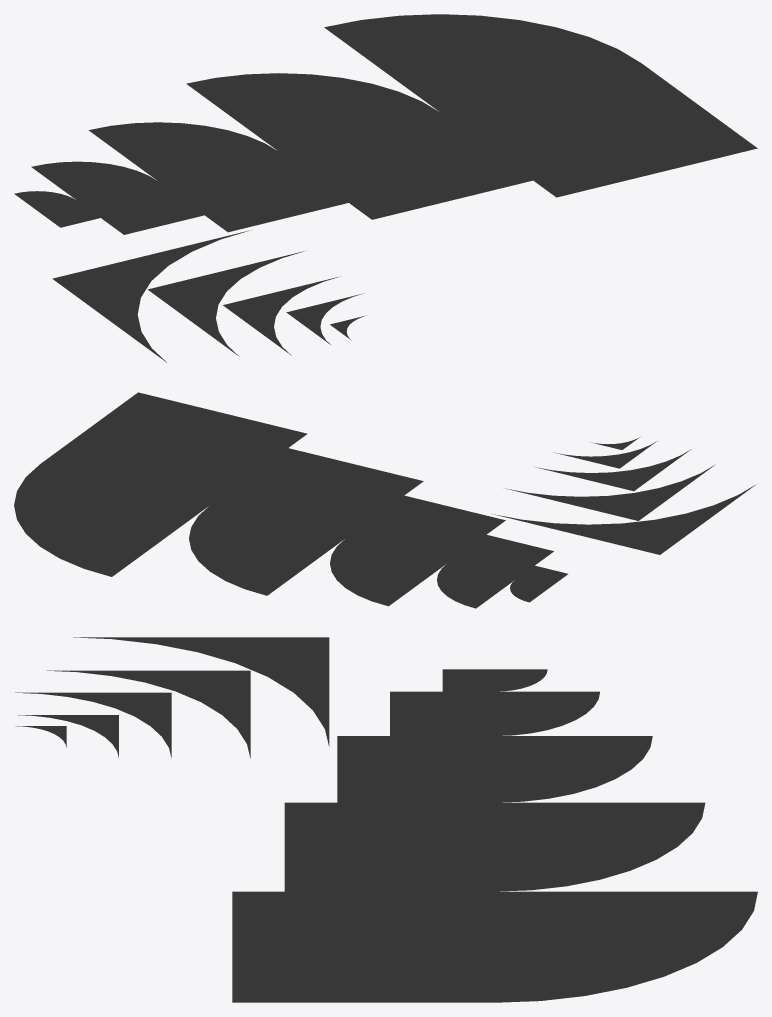
File: TilesLots.fbx
3 views of the same model, one above another, from view 1: azimuth 30°, elevation 25°; view 2: azimuth 150°, elevation 25°; view 3: azimuth 270°, elevation 25° (orthographic). The views are drawn at different scales.
Visible parts, largest first — view 1: lot_100x100, lot_corner_100x100, lot_80x80, lot_corner_80x80, lot_60x60, lot_corner_60x60, lot_cut_100x100, lot_40x40, lot_cut_80x80, lot_corner_40x40, lot_cut_60x60, lot_20x20 (+2 smaller); view 2: lot_100x100, lot_corner_100x100, lot_80x80, lot_corner_80x80, lot_60x60, lot_corner_60x60, lot_cut_100x100, lot_40x40, lot_cut_80x80, lot_corner_40x40, lot_cut_60x60, lot_20x20 (+2 smaller); view 3: lot_100x100, lot_corner_100x100, lot_80x80, lot_corner_80x80, lot_60x60, lot_corner_60x60, lot_cut_100x100, lot_40x40, lot_cut_80x80, lot_corner_40x40, lot_cut_60x60, lot_20x20 (+2 smaller).
Part boxes in pixels (box(x1,y1,x2,y2)): lot_100x100: box(440, 63, 757, 197); lot_corner_100x100: box(324, 14, 640, 112); lot_80x80: box(279, 112, 532, 219); lot_corner_80x80: box(186, 73, 439, 151); lot_60x60: box(158, 152, 348, 232); lot_corner_60x60: box(88, 122, 278, 181); lot_cut_100x100: box(52, 230, 251, 362); lot_40x40: box(78, 181, 203, 234); lot_cut_80x80: box(147, 251, 304, 356); lot_corner_40x40: box(31, 161, 157, 200); lot_cut_60x60: box(223, 276, 340, 355); lot_20x20: box(37, 201, 100, 227); lot_100x100: box(41, 392, 307, 505); lot_corner_100x100: box(14, 464, 209, 576); lot_80x80: box(210, 448, 423, 538); lot_corner_80x80: box(189, 505, 345, 595); lot_60x60: box(346, 495, 505, 563); lot_corner_60x60: box(330, 538, 446, 606); lot_cut_100x100: box(492, 484, 756, 554); lot_40x40: box(447, 534, 553, 579); lot_cut_80x80: box(506, 464, 715, 520); lot_corner_40x40: box(437, 563, 514, 608); lot_cut_60x60: box(533, 449, 691, 491); lot_20x20: box(515, 565, 567, 587); lot_100x100: box(232, 891, 494, 1002); lot_corner_100x100: box(495, 891, 757, 1002); lot_80x80: box(284, 802, 494, 891); lot_corner_80x80: box(495, 802, 705, 891); lot_60x60: box(337, 736, 494, 802); lot_corner_60x60: box(495, 736, 652, 802); lot_cut_100x100: box(73, 637, 329, 746); lot_40x40: box(390, 691, 494, 735); lot_cut_80x80: box(47, 670, 250, 758); lot_corner_40x40: box(495, 691, 599, 735); lot_cut_60x60: box(15, 692, 171, 757); lot_20x20: box(442, 669, 494, 691).
Size of the model in its own units: 32900 by 0.00326 by 28300.
